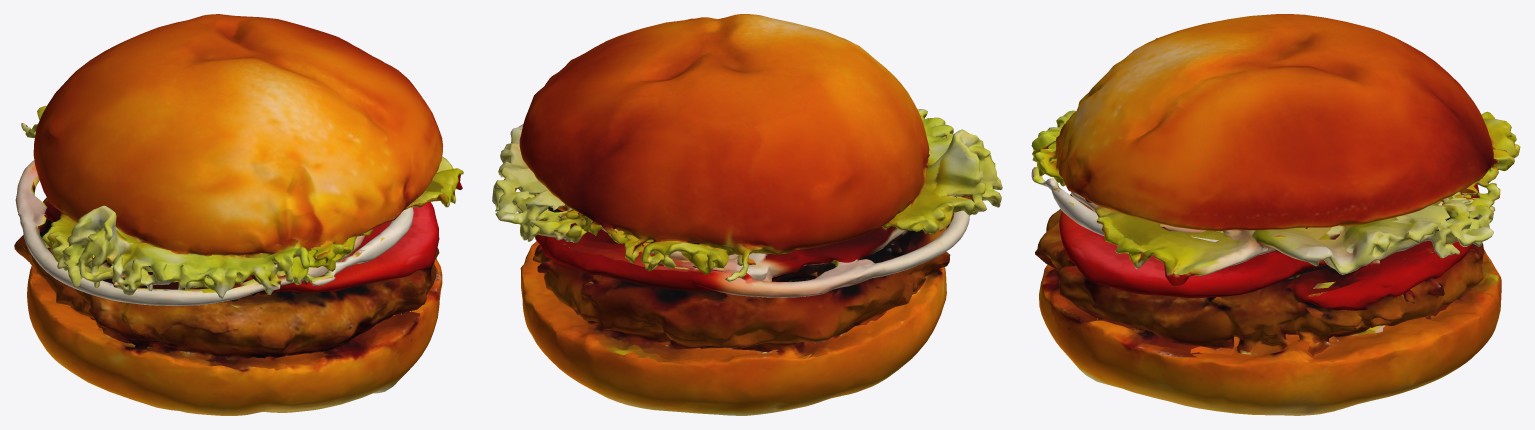
The model's file is burger.glb.
The picture shows the model from 3 angles, left to right: view 1: azimuth 30°, elevation 25°; view 2: azimuth 150°, elevation 25°; view 3: azimuth 270°, elevation 25°; orthographic projection. The views are drawn at different scales.
Parts seen in each view (by area): view 1: burger; view 2: burger; view 3: burger.
Boxes of the visible parts, x1,y1,x2,y2 form: burger: [14, 14, 463, 415]; burger: [492, 14, 1002, 415]; burger: [1031, 14, 1520, 415].
Size of the model in its own units: 0.13 by 0.09 by 0.13.
2 materials, 2 textured.
